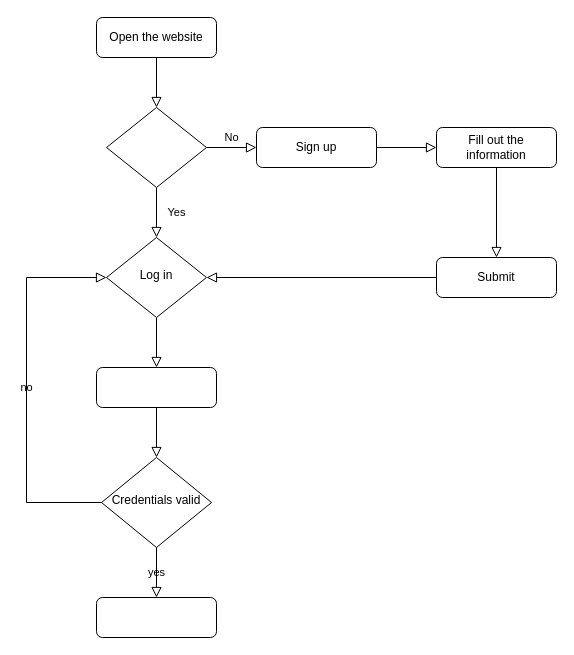
This 574x655 diagram has some shape labels left out. Here are the shapes that lost their labels. From the top down, the box of each, then its label:
(106, 106, 206, 188): Registered
(96, 366, 216, 408): Enter credentials
(96, 596, 216, 638): Logged in
